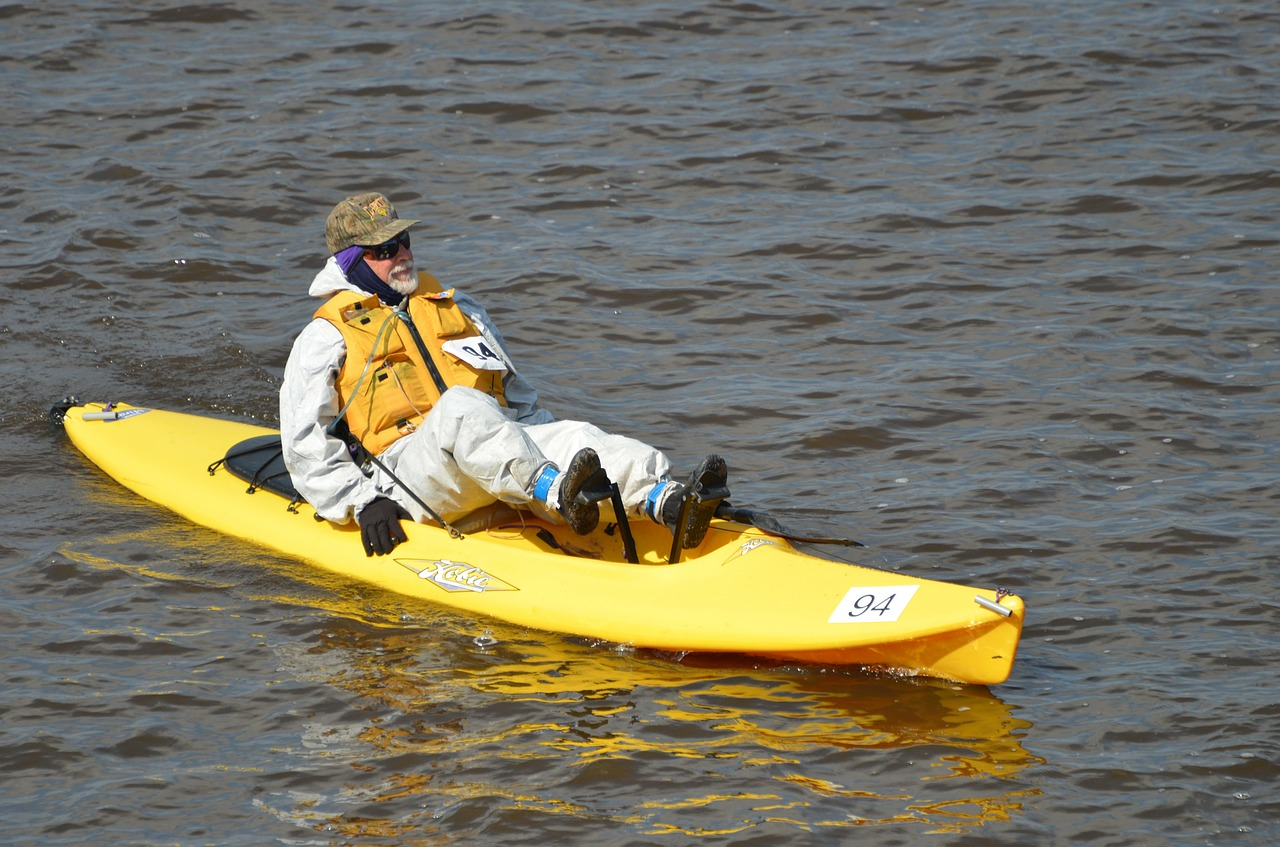kayak: (56, 389, 1026, 693)
